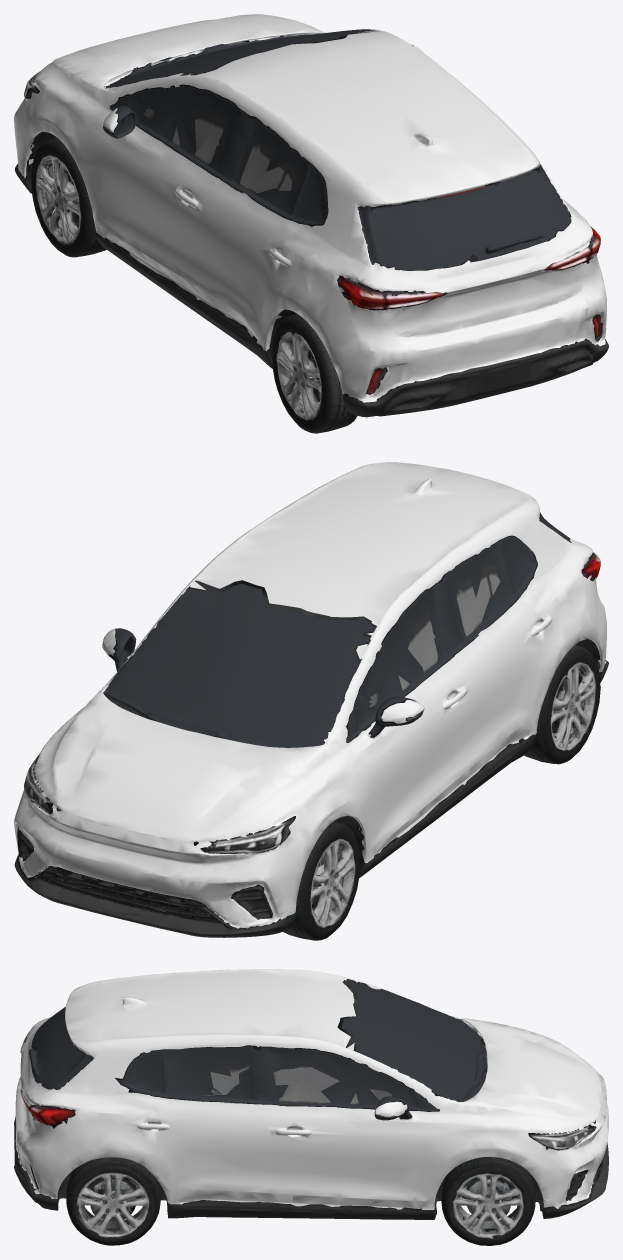
Rendered from car_hatchback.glb.
3 renders of one model, top to bottom at view 1: azimuth 30°, elevation 25°; view 2: azimuth 150°, elevation 25°; view 3: azimuth 270°, elevation 25°, orthographic. The views are drawn at different scales.
Parts seen in each view (by area): view 1: car_hb; view 2: car_hb; view 3: car_hb.
Part boxes in pixels (x1,y1,x2,y2): car_hb: (14,14,608,433); car_hb: (14,462,608,940); car_hb: (14,969,608,1245).
Bounding box in the file's own units: 2.04 × 1.58 × 4.3.
5 materials, 2 textured.
